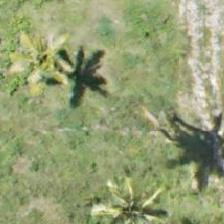coconut_tree: (120, 80, 210, 170), (0, 6, 76, 96), (66, 164, 156, 223)
